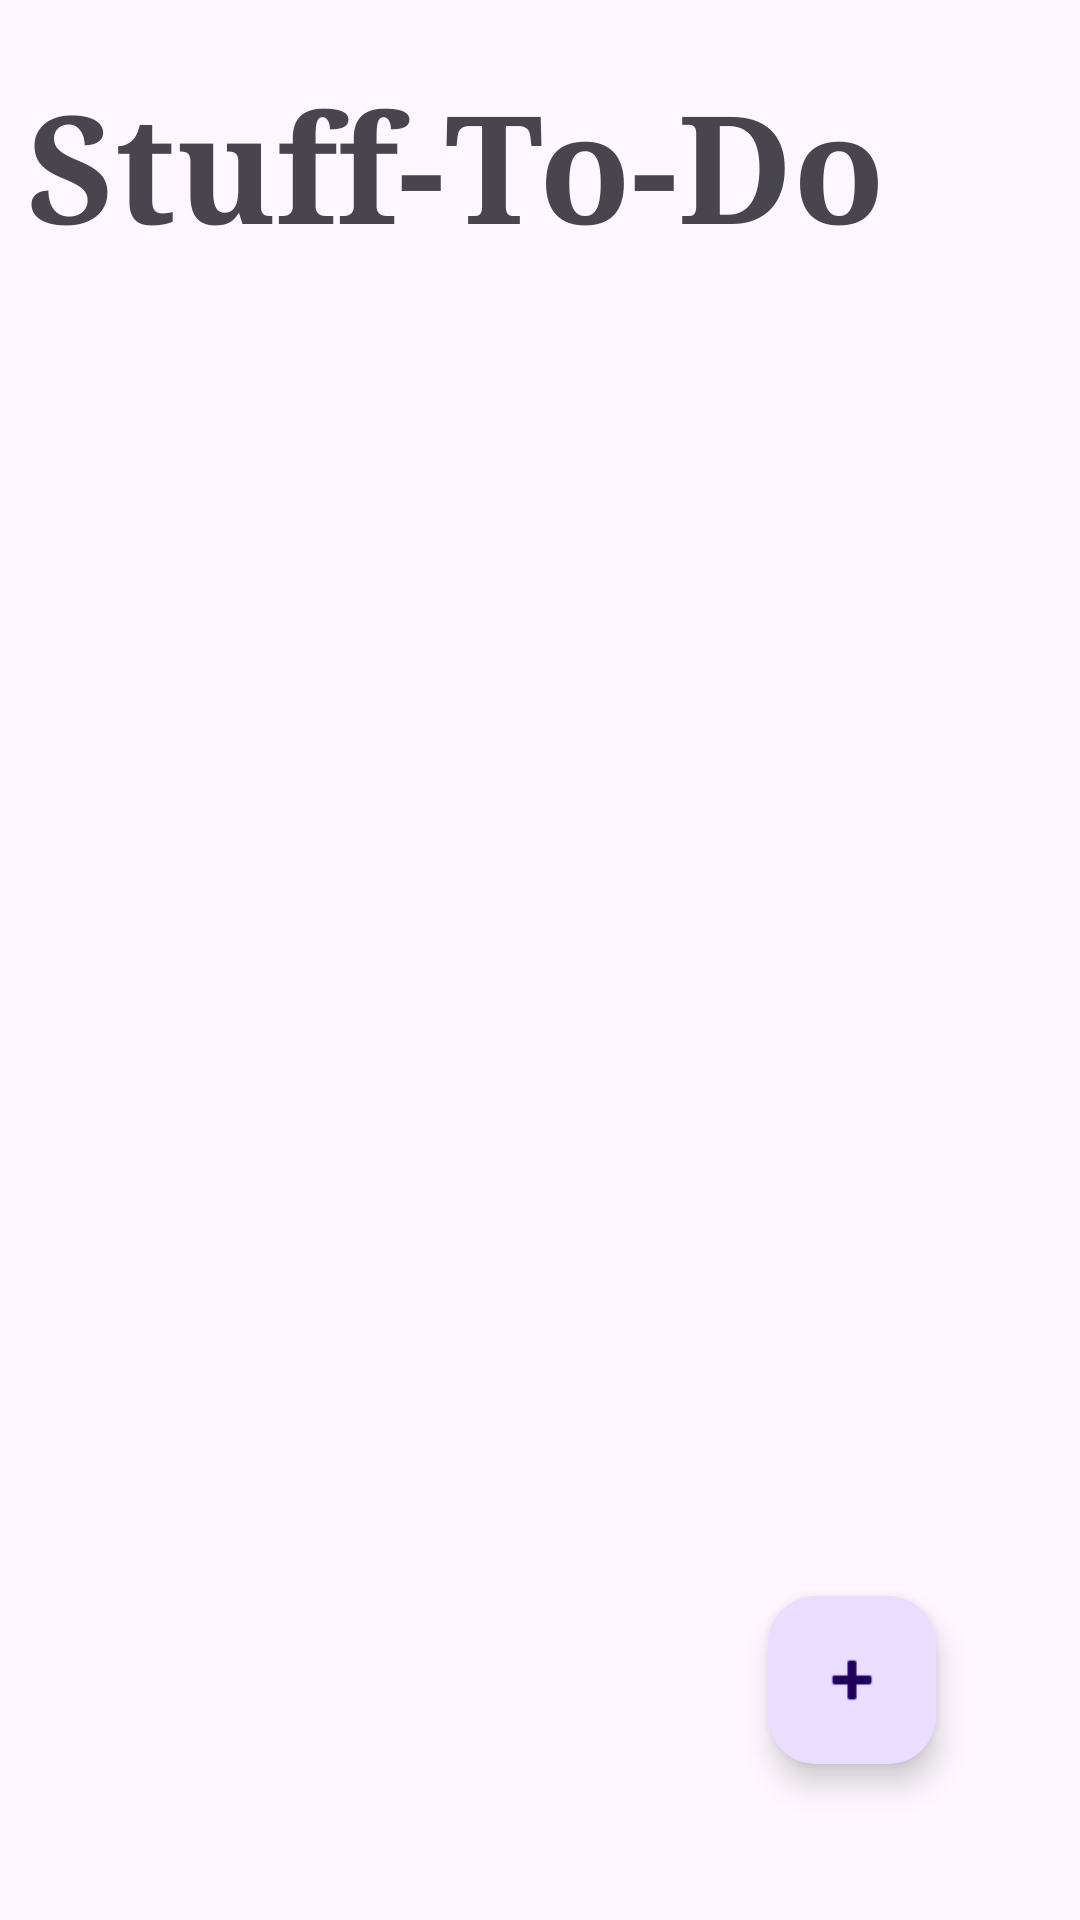

Where icons sit on this 1080w x 1920h app screen, as region(x1, y1, x2, y2):
add: region(768, 1596, 936, 1764)
